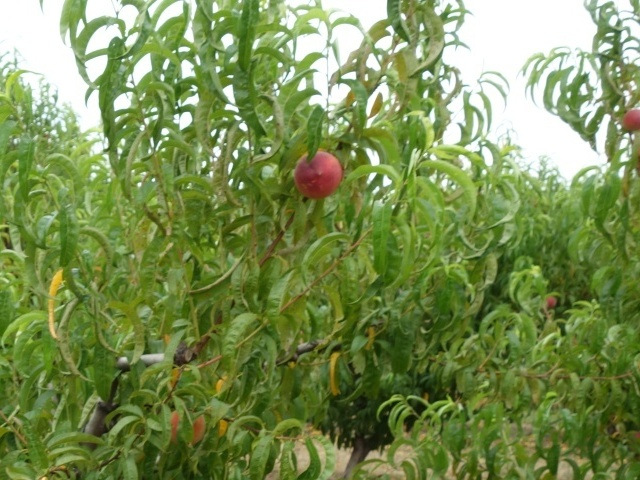peach: (289, 145, 350, 200), (167, 406, 209, 449), (617, 105, 640, 138)
